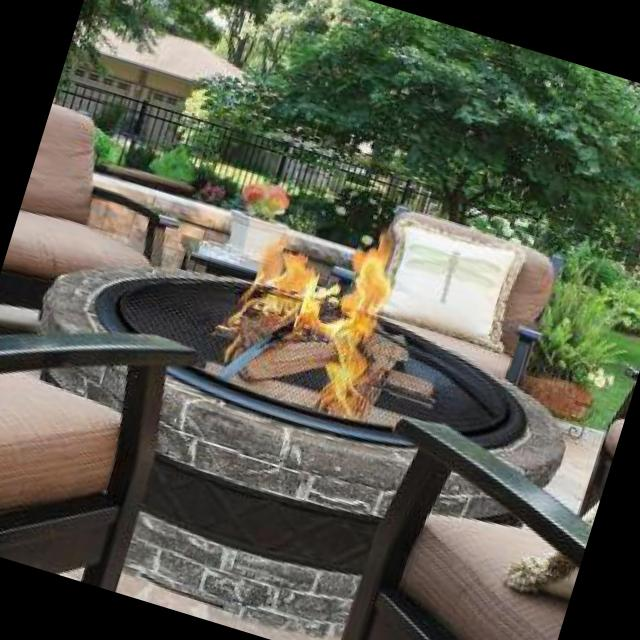fire: (220, 203, 424, 442)
